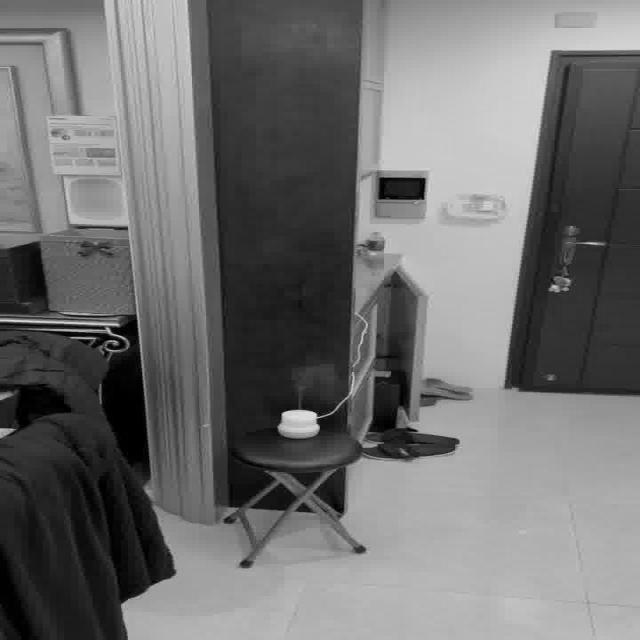fire: (280, 358, 334, 406)
